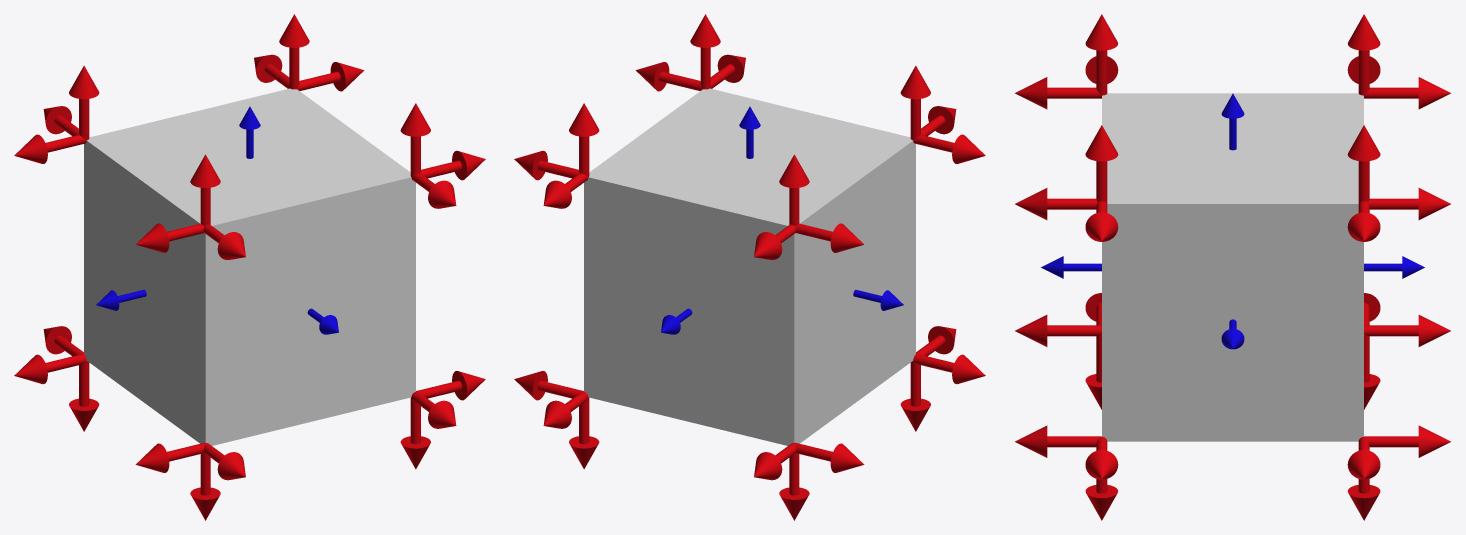
The picture shows the model from 3 angles, left to right: view 1: azimuth 30°, elevation 25°; view 2: azimuth 150°, elevation 25°; view 3: azimuth 270°, elevation 25°; orthographic projection. The views are drawn at different scales.
Parts seen in each view (by area): view 1: Cube.003; view 2: Cube.003; view 3: Cube.003.
Boxes of the visible parts, box(x1,y1,x2,y2) form: Cube.003: box(14, 14, 485, 520); Cube.003: box(514, 14, 985, 520); Cube.003: box(1015, 14, 1450, 520).
Bounding box in the file's own units: 2 × 2 × 2.
